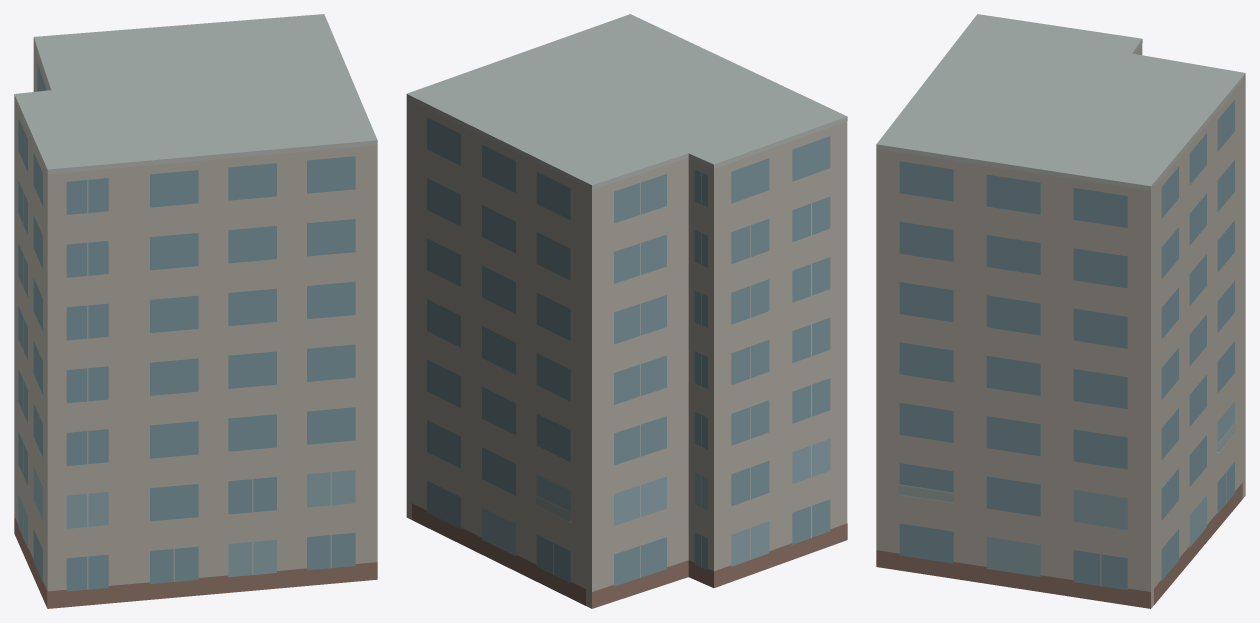
The model's file is survey-upis-32711553.glb.
3 renders of one model, left to right at view 1: azimuth 30°, elevation 25°; view 2: azimuth 150°, elevation 25°; view 3: azimuth 270°, elevation 25°, orthographic. The views are drawn at different scales.
Parts seen in each view (by area): view 1: survey-upis-32711553.tmp; view 2: survey-upis-32711553.tmp; view 3: survey-upis-32711553.tmp.
Boxes of the visible parts, box(x1,y1,x2,y2) form: survey-upis-32711553.tmp: box(14, 14, 377, 608); survey-upis-32711553.tmp: box(406, 14, 847, 608); survey-upis-32711553.tmp: box(876, 14, 1245, 608).
Bounding box in the file's own units: 20.04 × 22.91 × 18.15.
